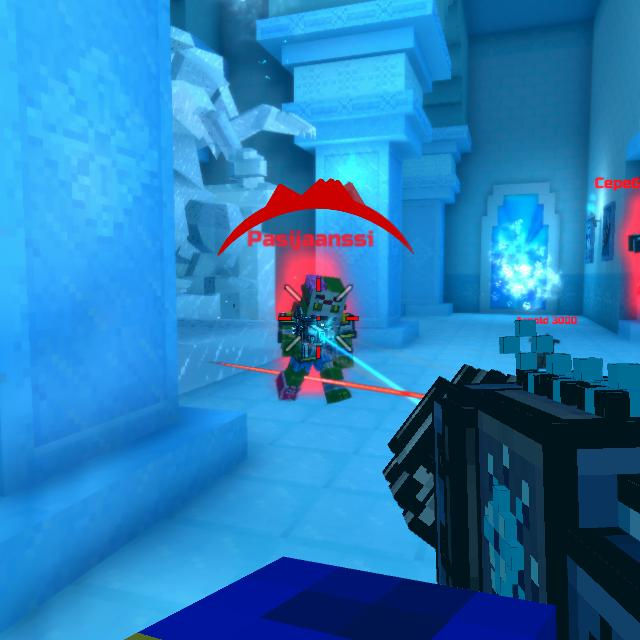Enemy: (275, 274, 357, 404), (627, 233, 640, 254)
